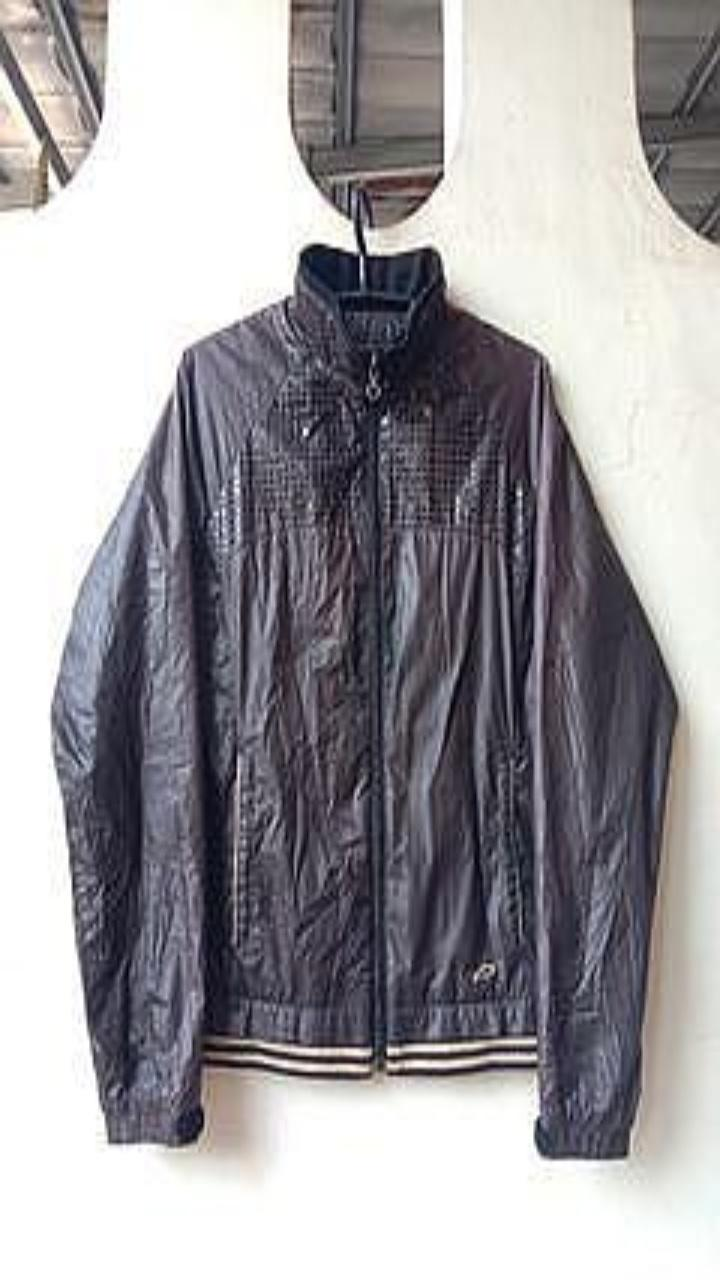Sports_Jacket: (52, 243, 677, 1157)
